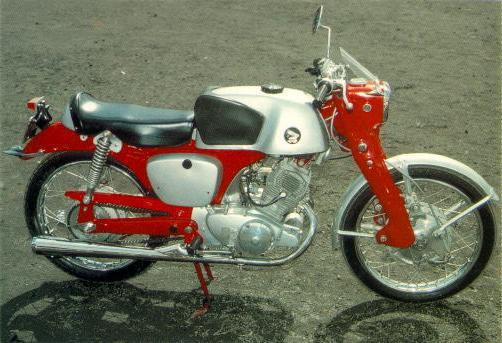motorcycle: (10, 16, 502, 325)
